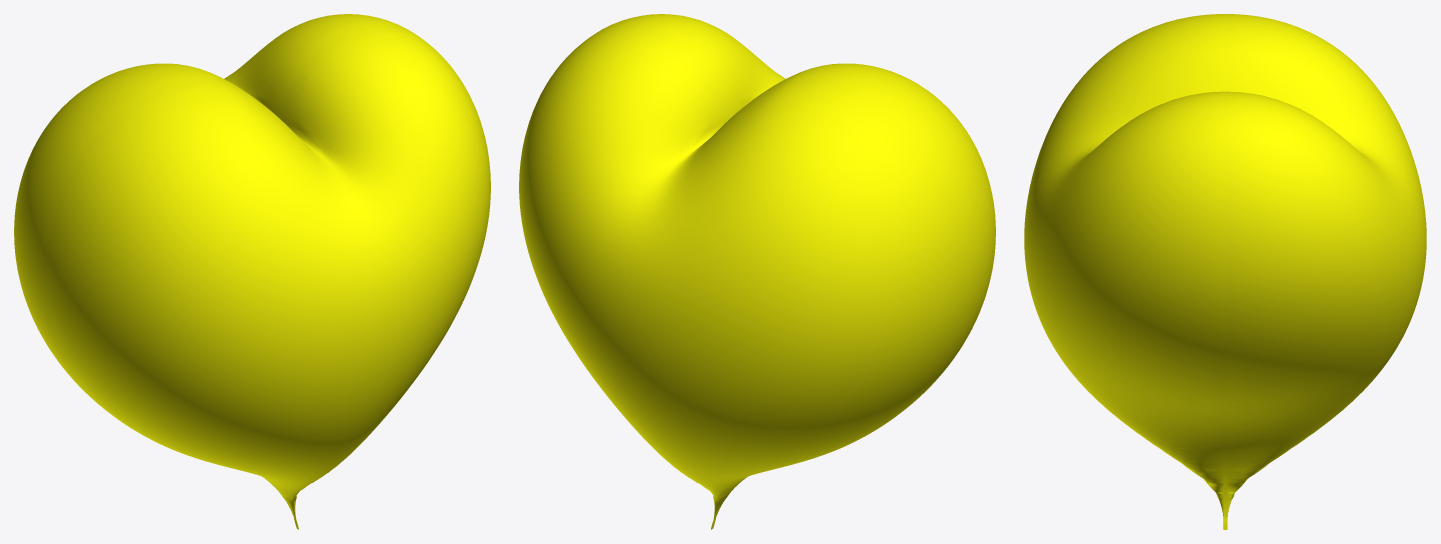
The model's file is oetc2026Asset 4heart-yellow.gltf.
The picture shows the model from 3 angles, left to right: view 1: azimuth 30°, elevation 25°; view 2: azimuth 150°, elevation 25°; view 3: azimuth 270°, elevation 25°; orthographic projection. The views are drawn at different scales.
Bounding box in the file's own units: 0.5004 × 0.5586 × 0.4449.
